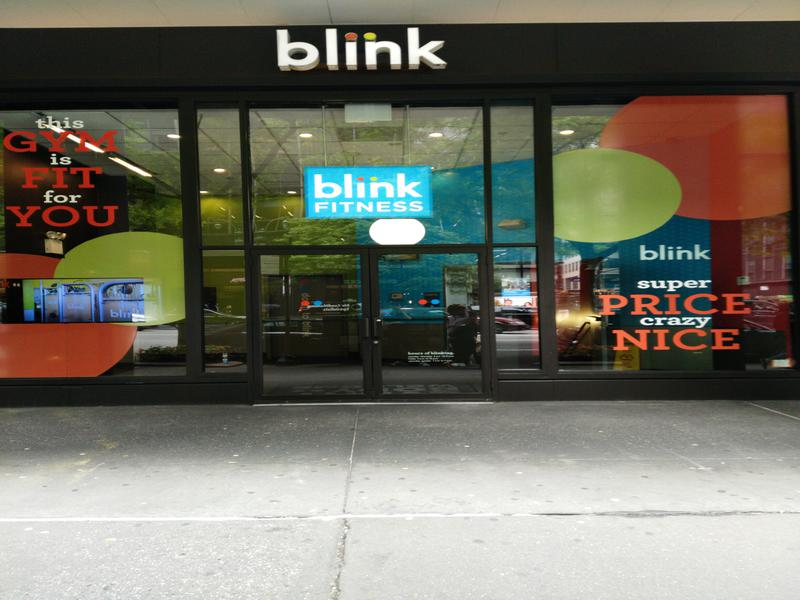double_door: (251, 241, 495, 405)
